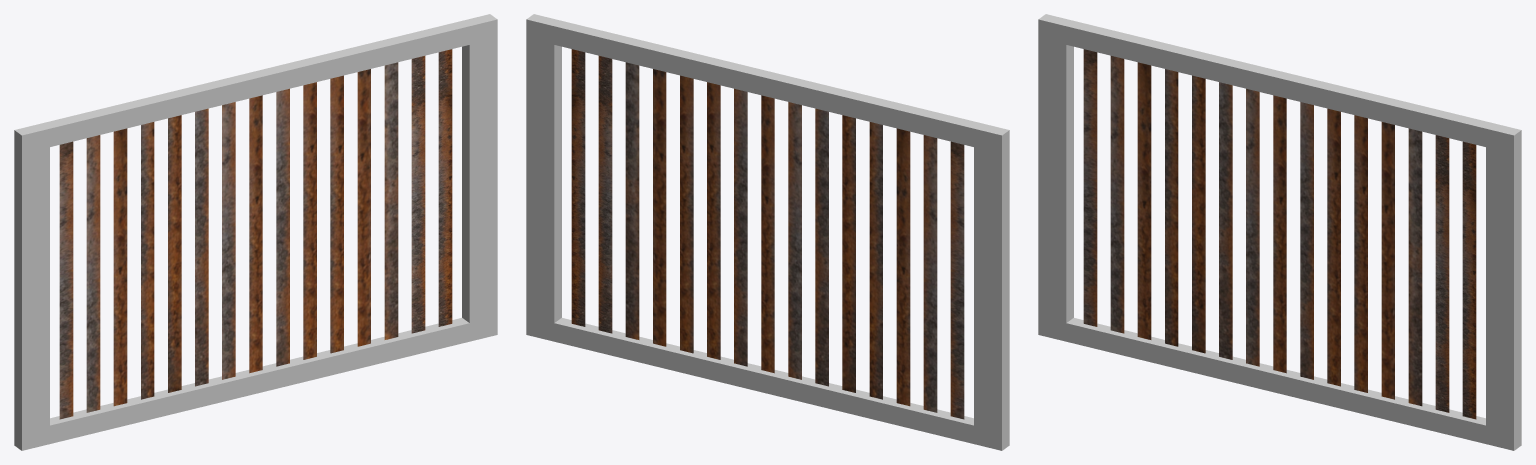
File: PSX Ven closed .fbx
3 renders of one model, left to right at view 1: azimuth 30°, elevation 25°; view 2: azimuth 150°, elevation 25°; view 3: azimuth 330°, elevation 25°, orthographic.
Visible parts, largest first — view 1: Cube; view 2: Cube; view 3: Cube.
Boxes of the visible parts, x1,y1,x2,y2 form: Cube: (14,14,497,450); Cube: (526,14,1009,450); Cube: (1038,14,1521,450).
Size of the model in its own units: 316 by 200 by 8.58.
2 materials, 1 textured.
